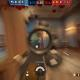Character: (38, 39, 42, 48)
Friend_label: (64, 46, 68, 49)
Head: (38, 39, 40, 41)
